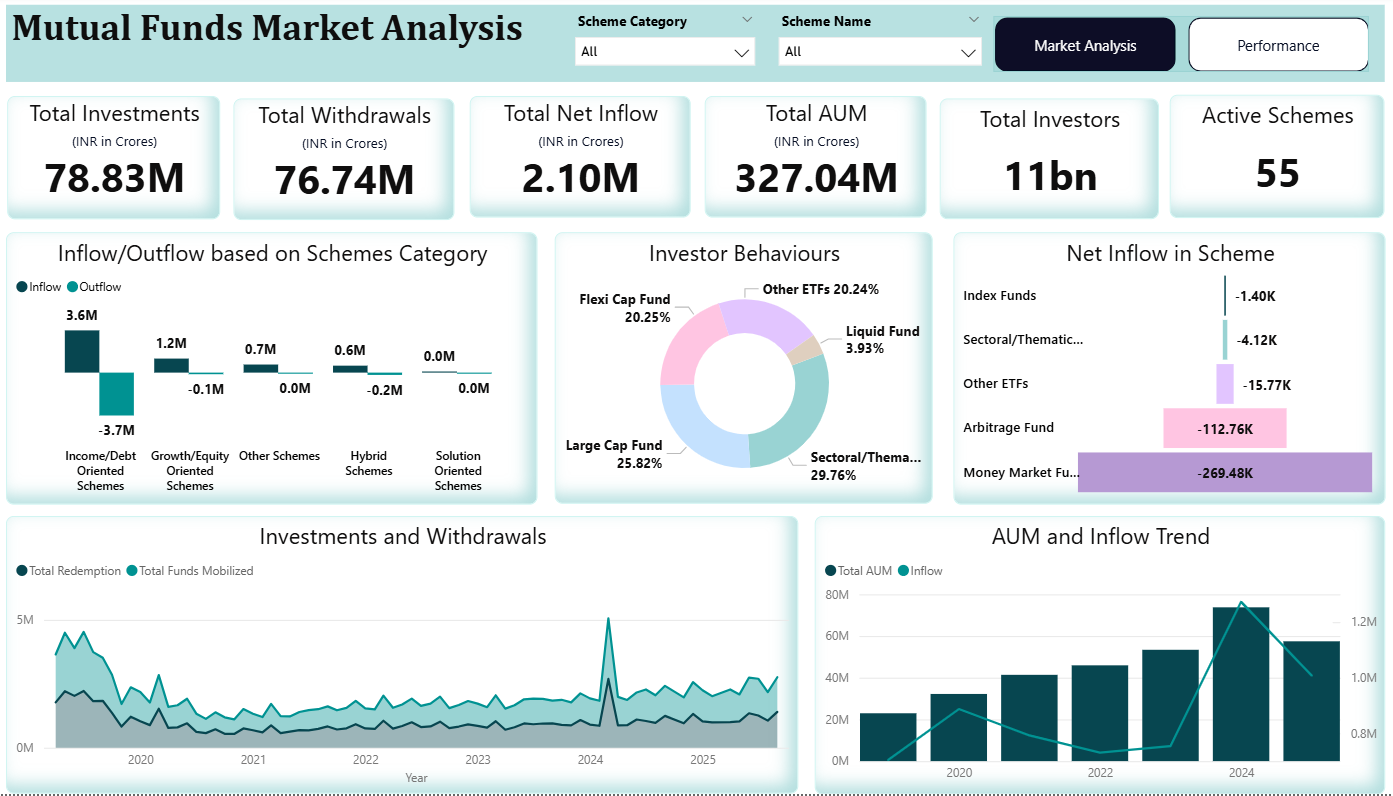

The dashboard page shown, as its layout file describes it:
{"tool":"powerbi","page":{"name":"Market Analysis","canvas":[1280,720],"ordinal":0},"visuals":[{"type":"textbox","title":"Mutual Funds Market Analysis ","box":[17.8,8.2,1243.2,70],"z":0},{"type":"card","title":"Total Investments","fields":{"Values":["Mutual Funds(2019-2025).Total Funds Mobilized"]},"box":[19.2,90.6,192.1,111.1],"z":1000},{"type":"card","title":"Total Withdrawals","fields":{"Values":["Mutual Funds(2019-2025).Total Redemption"]},"box":[223.7,91.9,199,109.8],"z":2000},{"type":"card","title":"Total Net Inflow","fields":{"Values":["Mutual Funds(2019-2025).Total Net Inflow/Outflow"]},"box":[436.4,90.6,199,109.8],"z":3000},{"type":"card","title":"Total AUM","fields":{"Values":["Mutual Funds(2019-2025).Total AUM"]},"box":[647.7,90.6,200.3,109.8],"z":4000},{"type":"card","title":"Total Investors","fields":{"Values":["Mutual Funds(2019-2025).Total Folios"]},"box":[860.4,91.9,197.6,108.4],"z":5000},{"type":"card","title":"Active Schemes","fields":{"Values":["Mutual Funds(2019-2025).Actve Schemes"]},"box":[1067.6,89.2,193.5,111.1],"z":6000},{"type":"clusteredColumnChart","title":"Inflow/Outflow based on Schemes Category","fields":{"Category":["Mutual Funds(2019-2025).Scheme Category"],"Y":["Mutual Funds(2019-2025).Inflow","Mutual Funds(2019-2025).Outflow"]},"box":[17.6,213.2,479.4,245.6],"z":7000},{"type":"donutChart","title":"Investor Behaviours","fields":{"Y":["Mutual Funds(2019-2025).Total Folios"],"Category":["Mutual Funds(2019-2025).Scheme Name"]},"box":[512.7,212.7,340.8,245.1],"z":8000},{"type":"stackedAreaChart","title":"Investments and Withdrawals","fields":{"Y":["Mutual Funds(2019-2025).Total Redemption","Mutual Funds(2019-2025).Total Funds Mobilized"],"Category":["Custom Calendar.Date.Variation.Date Hierarchy.Year","Custom Calendar.Date.Variation.Date Hierarchy.Quarter","Custom Calendar.Date.Variation.Date Hierarchy.Month","Custom Calendar.Date.Variation.Date Hierarchy.Day"]},"box":[17.6,469.1,714.7,250],"z":9000},{"type":"funnel","title":"Net Inflow in Scheme ","fields":{"Category":["Mutual Funds(2019-2025).Scheme Name"],"Y":["Mutual Funds(2019-2025).Outflow"]},"box":[872.1,213.2,389.7,245.6],"z":10000},{"type":"slicer","fields":{"Values":["Mutual Funds(2019-2025).Scheme Category"]},"box":[520.8,9.1,183.1,70.1],"z":11000},{"type":"slicer","fields":{"Values":["Mutual Funds(2019-2025).Scheme Name"]},"box":[703.9,9.1,203.9,79.2],"z":12000},{"type":"pageNavigator","box":[908.5,18.3,338,50.7],"z":13000},{"type":"lineStackedColumnComboChart","title":"AUM and Inflow Trend","fields":{"Category":["Custom Calendar.Date.Variation.Date Hierarchy.Year"],"Y":["Mutual Funds(2019-2025).Total AUM"],"Y2":["Mutual Funds(2019-2025).Inflow"]},"box":[747.1,469.1,514.7,251.5],"z":14000}]}

Visuals, with their boxes in screenshot pixels (x1, y1, x2, y2), scaled from the page's 1280x720 canvas onto the 1393x796 screenshot:
"Mutual Funds Market Analysis " textbox: 19, 9, 1372, 86
"Total Investments" card: 21, 100, 230, 223
"Total Withdrawals" card: 243, 102, 460, 223
"Total Net Inflow" card: 475, 100, 691, 222
"Total AUM" card: 705, 100, 923, 222
"Total Investors" card: 936, 102, 1151, 221
"Active Schemes" card: 1162, 99, 1372, 221
"Inflow/Outflow based on Schemes Category" clusteredColumnChart: 19, 236, 541, 507
"Investor Behaviours" donutChart: 558, 235, 929, 506
"Investments and Withdrawals" stackedAreaChart: 19, 519, 797, 795
"Net Inflow in Scheme " funnel: 949, 236, 1373, 507
slicer - Mutual Funds(2019-2025).Scheme Category: 567, 10, 766, 88
slicer - Mutual Funds(2019-2025).Scheme Name: 766, 10, 988, 98
pageNavigator: 989, 20, 1357, 76
"AUM and Inflow Trend" lineStackedColumnComboChart: 813, 519, 1373, 795
